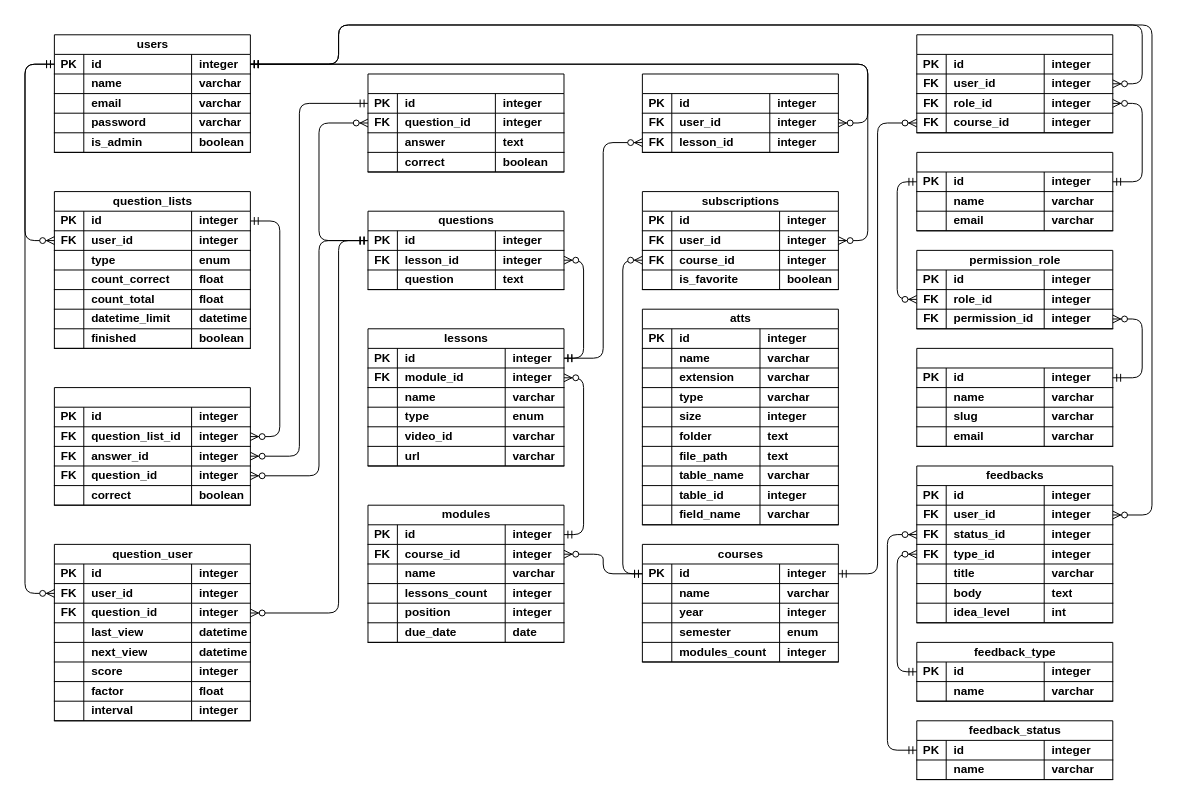
Some shapes in this 1178 by 797 pixel diagram are drawn without their labels. Here are the shapes that lost their labels. From the top down, the box of each, then its label:
(916, 34, 1113, 133): role_user
(367, 73, 564, 172): answers
(641, 73, 838, 152): watcheds
(916, 151, 1113, 231): roles
(916, 347, 1113, 446): permissions
(53, 387, 250, 505): question_list_items
